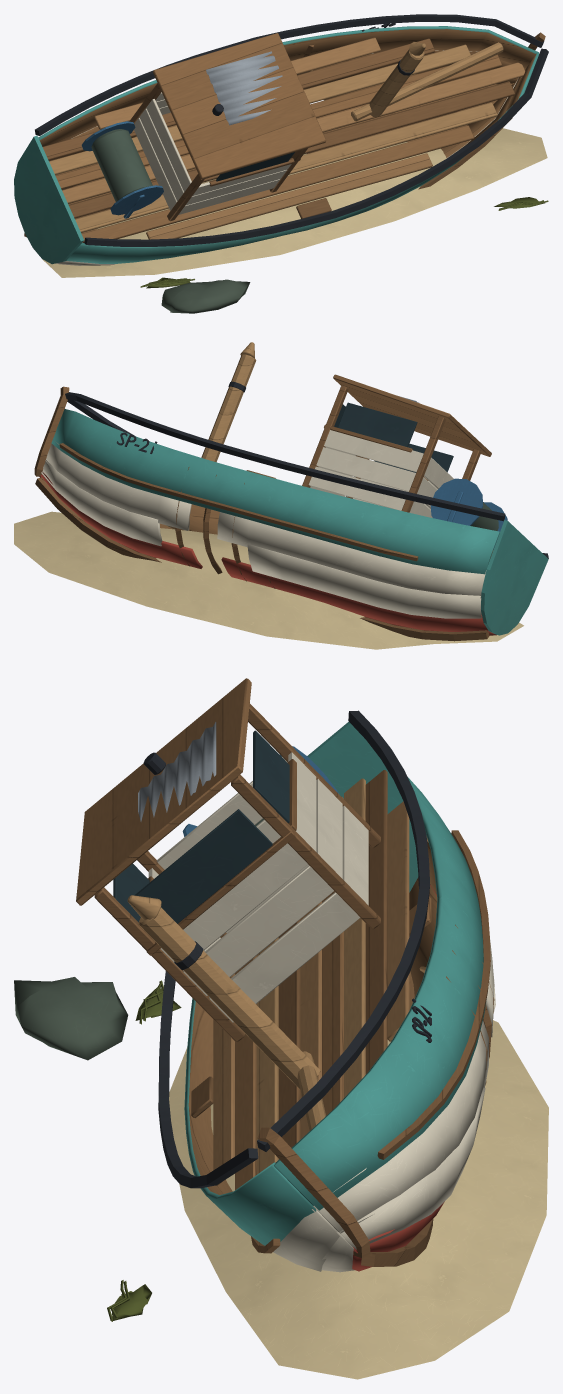
The model's file is fishing_boat_wreck.glb.
3 views of the same model, one above another, from view 1: azimuth 30°, elevation 25°; view 2: azimuth 150°, elevation 25°; view 3: azimuth 270°, elevation 25° (orthographic). The views are drawn at different scales.
Parts seen in each view (by area): view 1: fishing_boat_wreck; view 2: fishing_boat_wreck; view 3: fishing_boat_wreck.
Boxes of the visible parts, x1=… form: fishing_boat_wreck: x1=14, y1=14, x2=548, y2=313; fishing_boat_wreck: x1=14, y1=342, x2=548, y2=649; fishing_boat_wreck: x1=14, y1=678, x2=548, y2=1379.
Bounding box in the file's own units: 8.51 × 3.5 × 4.38.
27 materials, 27 textured.
